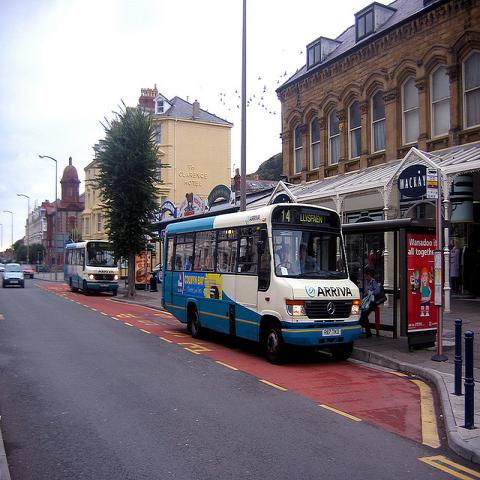bus: (163, 204, 365, 358), (63, 240, 122, 298)
car: (2, 262, 26, 289), (153, 263, 163, 282), (20, 265, 34, 278), (0, 264, 5, 271)
